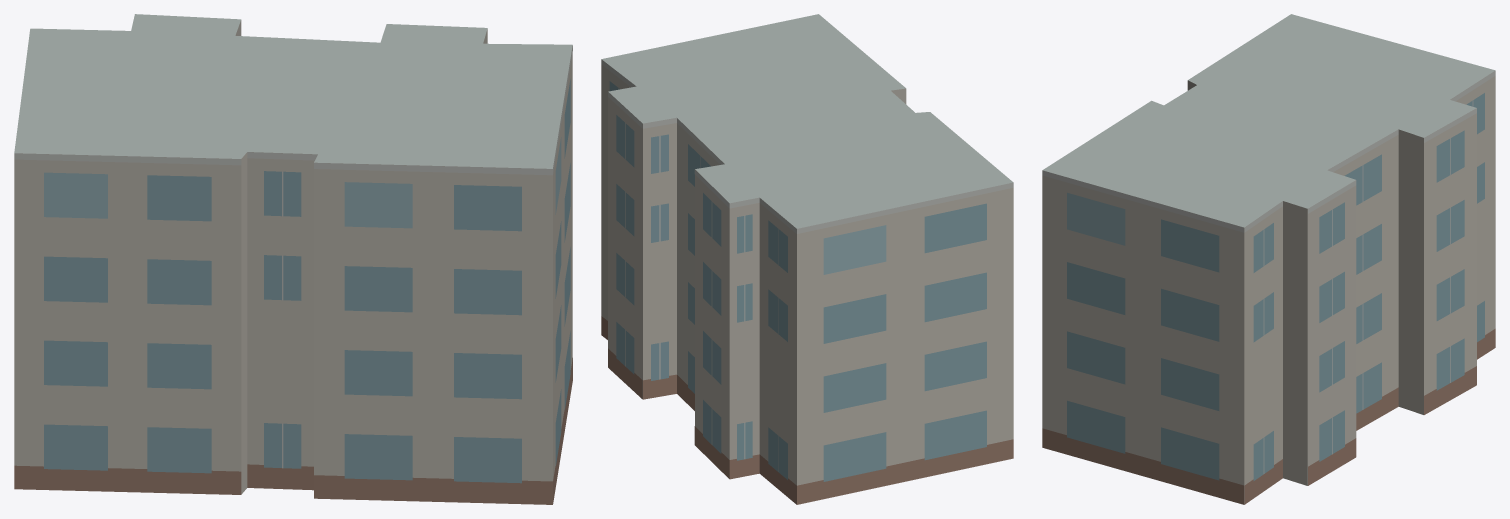
File: survey-upis-32775794.glb
The picture shows the model from 3 angles, left to right: view 1: azimuth 30°, elevation 25°; view 2: azimuth 150°, elevation 25°; view 3: azimuth 270°, elevation 25°; orthographic projection. The views are drawn at different scales.
Visible parts, largest first — view 1: survey-upis-32775794.tmp; view 2: survey-upis-32775794.tmp; view 3: survey-upis-32775794.tmp.
Boxes of the visible parts, box(x1,y1,x2,y2) form: survey-upis-32775794.tmp: box(14, 14, 572, 504); survey-upis-32775794.tmp: box(601, 14, 1013, 504); survey-upis-32775794.tmp: box(1042, 14, 1495, 504).
Size of the model in its own units: 21.31 by 12.9 by 19.12.
